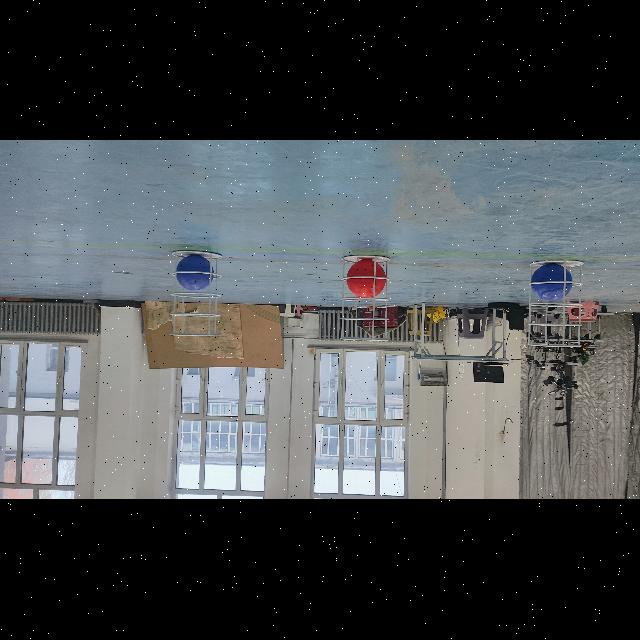B: (530, 265, 574, 301), (172, 254, 215, 290)
R: (345, 262, 387, 298)
S: (523, 258, 589, 350), (167, 249, 227, 343), (339, 253, 397, 345)
